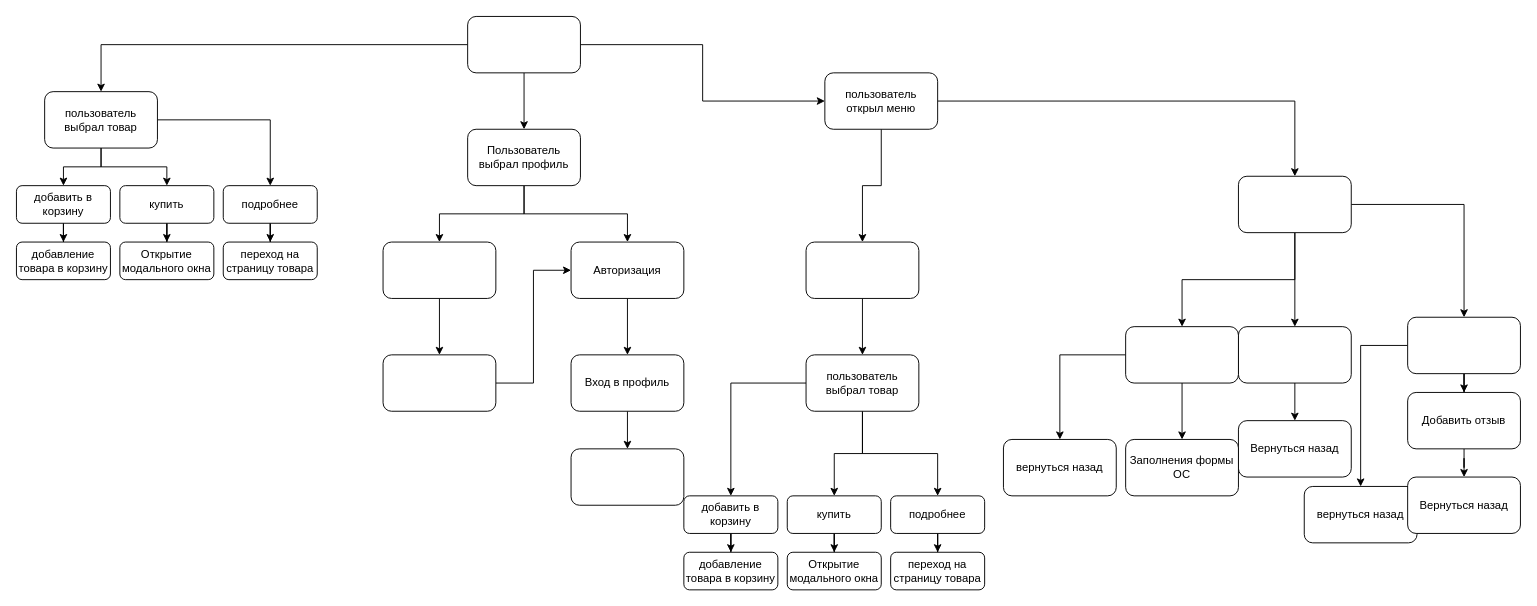
Image size: 1537x606. Some labels were removed from this diagram. Here are the shapes that lost their labels. From the top down, the centre of each, then its label:
the point at 523,44: начало
the point at 1294,204: Выбор информационных страниц
the point at 439,269: Регистрация
the point at 862,269: Выбор страницы с фирмами
the point at 1181,354: Обратная связь
the point at 1294,354: Доставка,персонал, контакты,Вопрос/Ответ,Услуги
the point at 1463,345: Отзывы
the point at 439,382: Заполнение данных
the point at 627,476: Редактирование профиля
